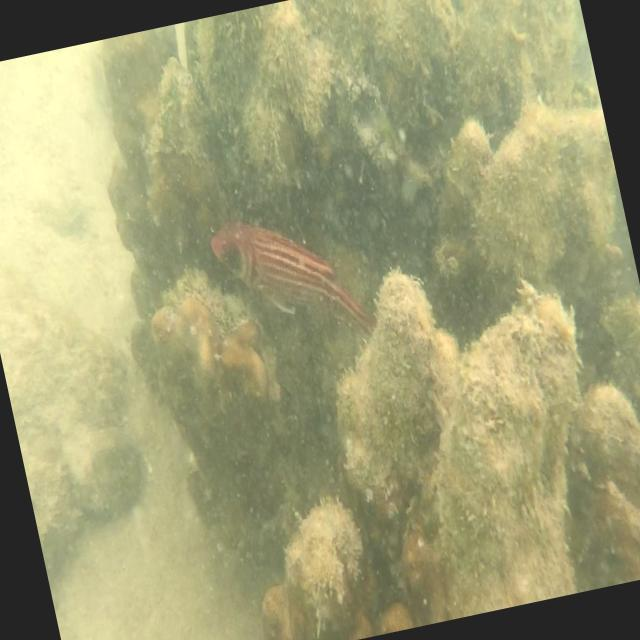Asker Baligi: (204, 190, 378, 366)
